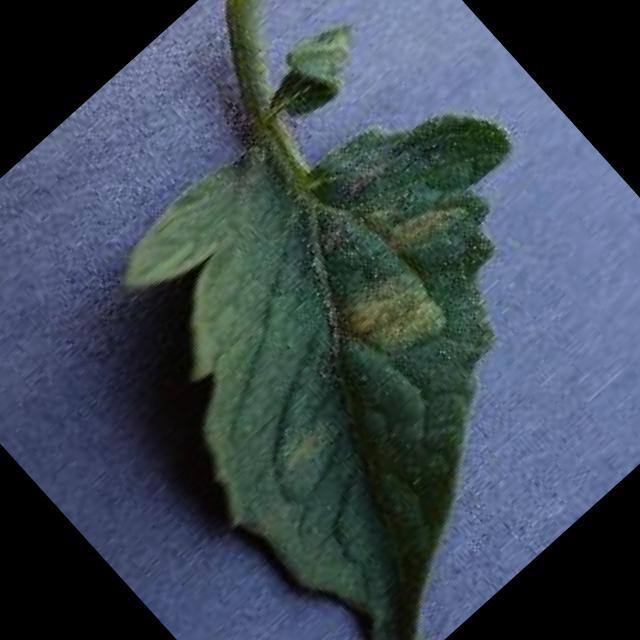Tomato mold leaf: (41, 5, 640, 640)
